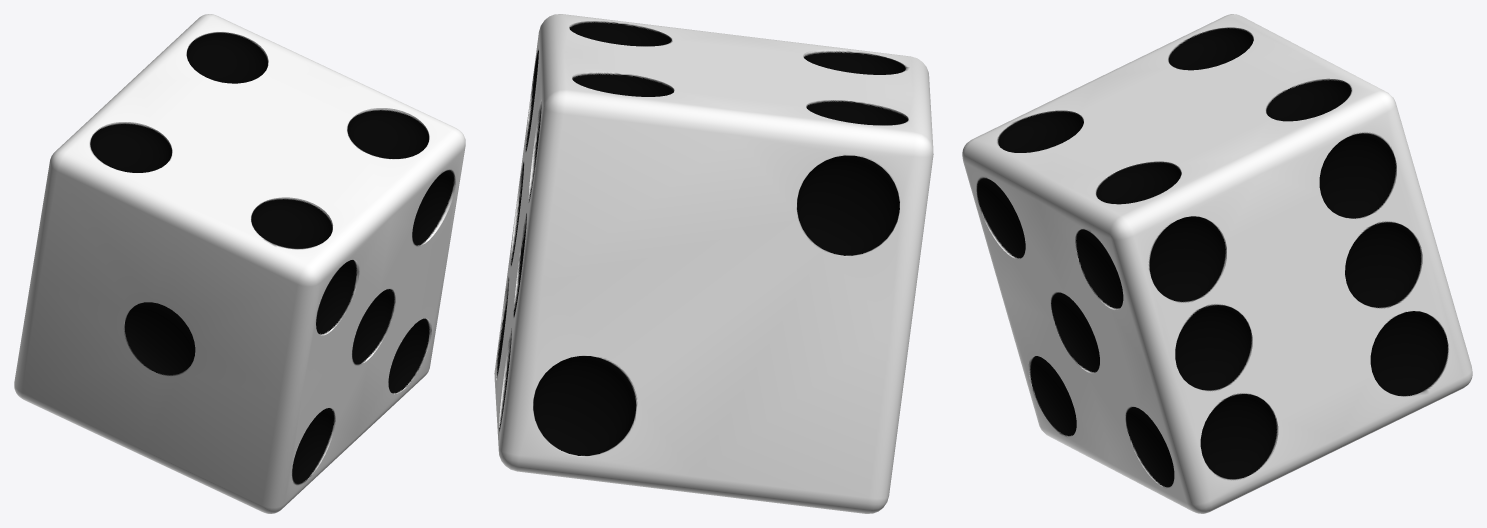
The picture shows the model from 3 angles, left to right: view 1: azimuth 30°, elevation 25°; view 2: azimuth 150°, elevation 25°; view 3: azimuth 270°, elevation 25°; orthographic projection. The views are drawn at different scales.
Parts seen in each view (by area): view 1: node_id5; view 2: node_id5; view 3: node_id5.
Boxes of the visible parts, left/top/right/bottom form: node_id5: left=14, top=14, right=465, bottom=513; node_id5: left=494, top=14, right=933, bottom=513; node_id5: left=962, top=14, right=1472, bottom=513.
Bounding box in the file's own units: 0.4974 × 0.4793 × 0.5671.
1 material, 1 textured.
